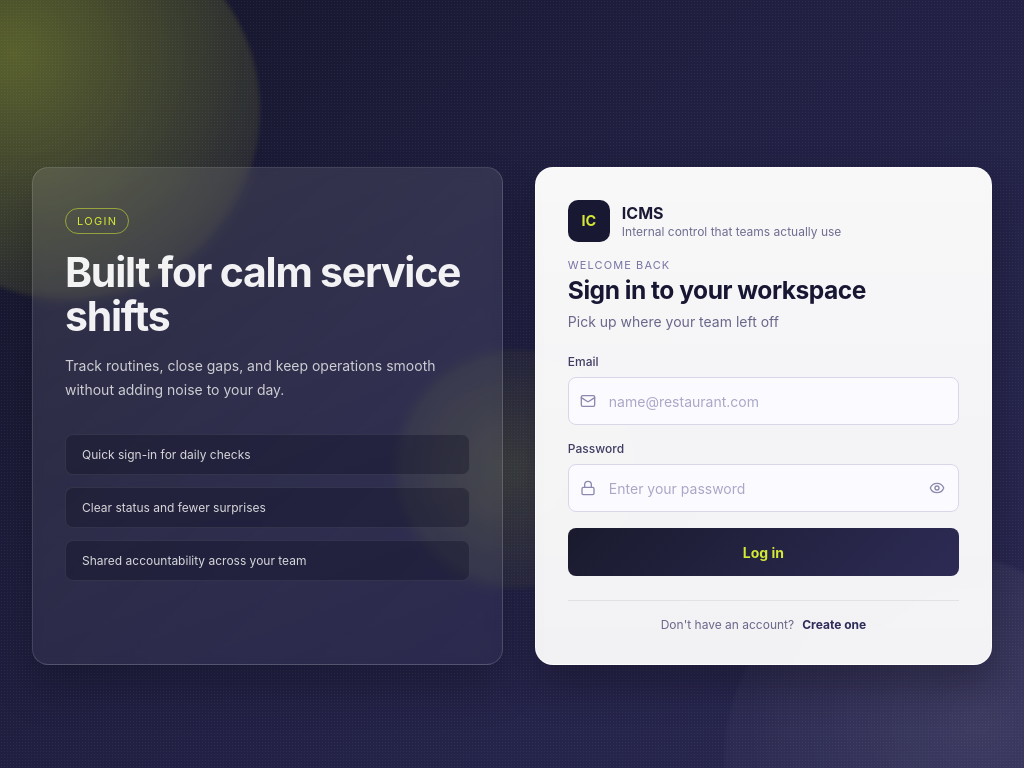
Login Page › shows only password error when only password is missing
The width and height of the screenshot is (1024, 768).
Type "user@example.com" into the field with id "email".
click(764, 401); type("user@example.com")  # box 568,377 -> 959,425
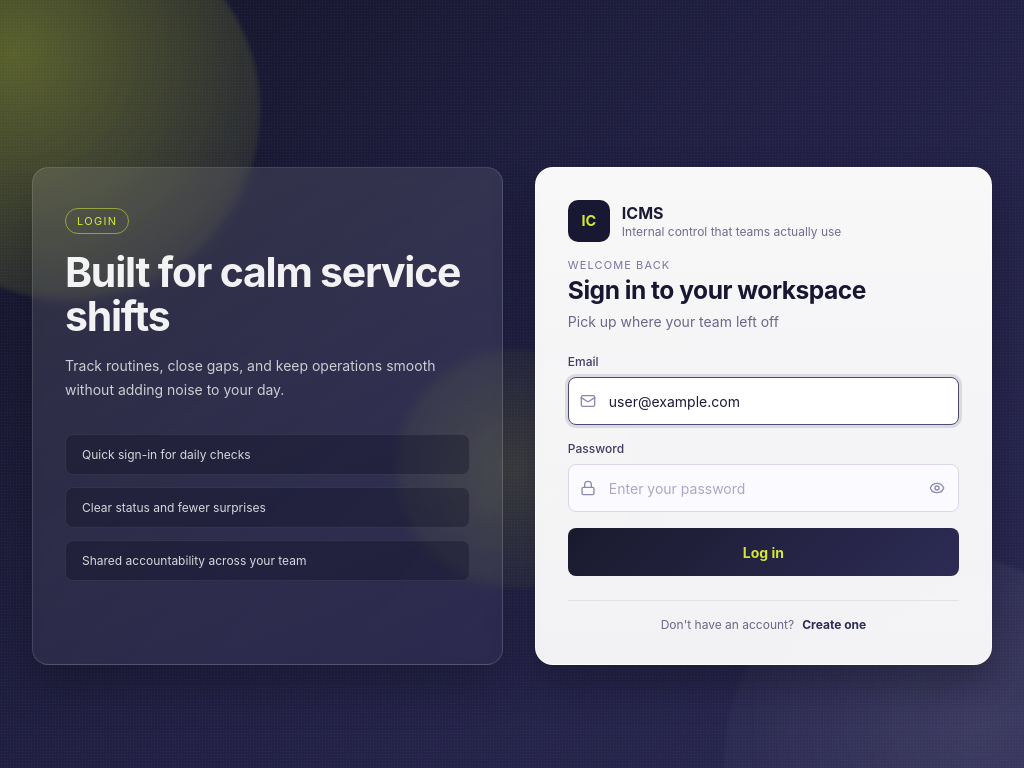
Click the submit button.
click(764, 552)  # box 568,528 -> 959,576
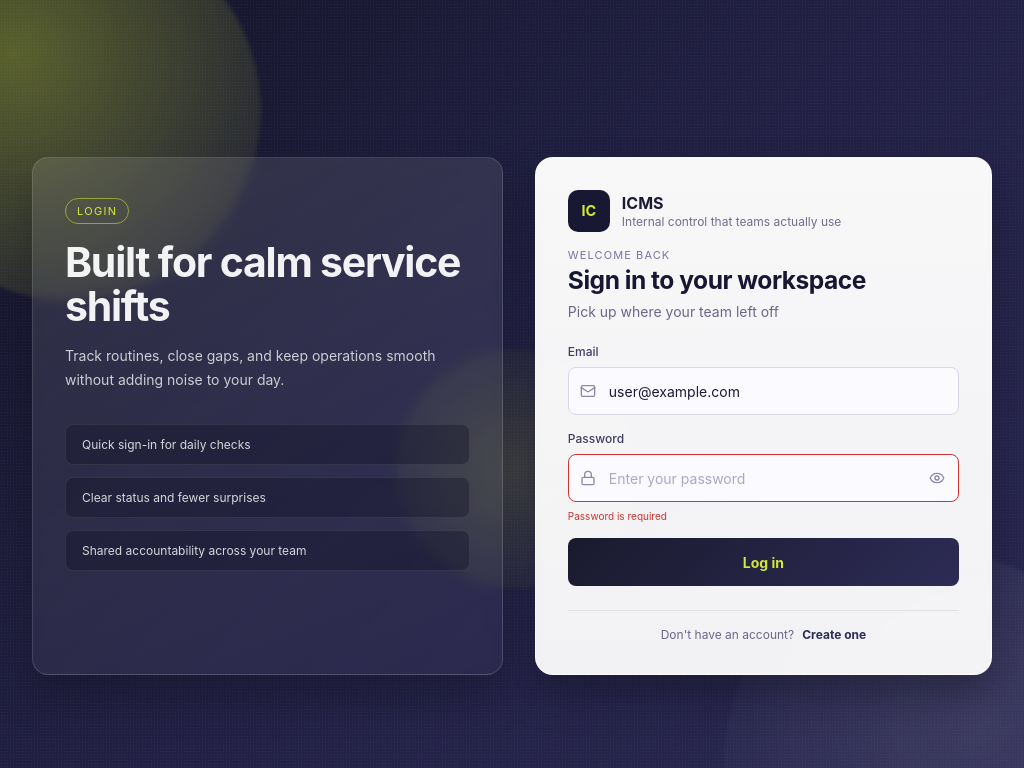
Expected: the text "Password is required" is shown, 568,510 -> 667,522
